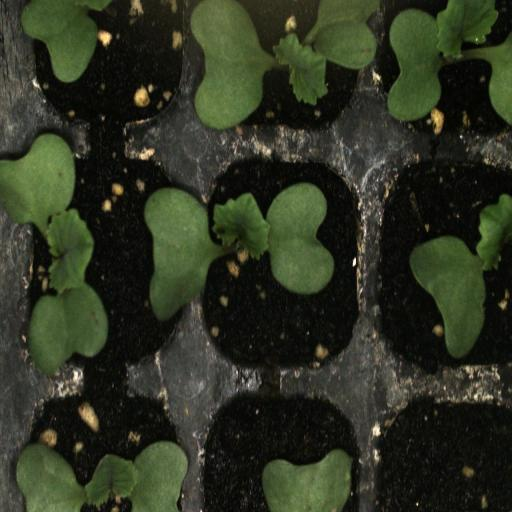Folha: (18, 0, 112, 83)
Germinacao: (10, 147, 194, 384), (194, 150, 366, 375), (367, 152, 512, 377), (201, 0, 368, 151), (368, 0, 512, 149)
